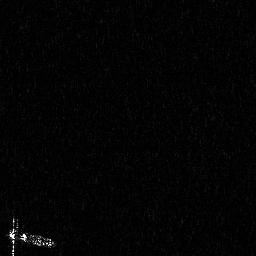ship: (4, 216, 56, 256)
